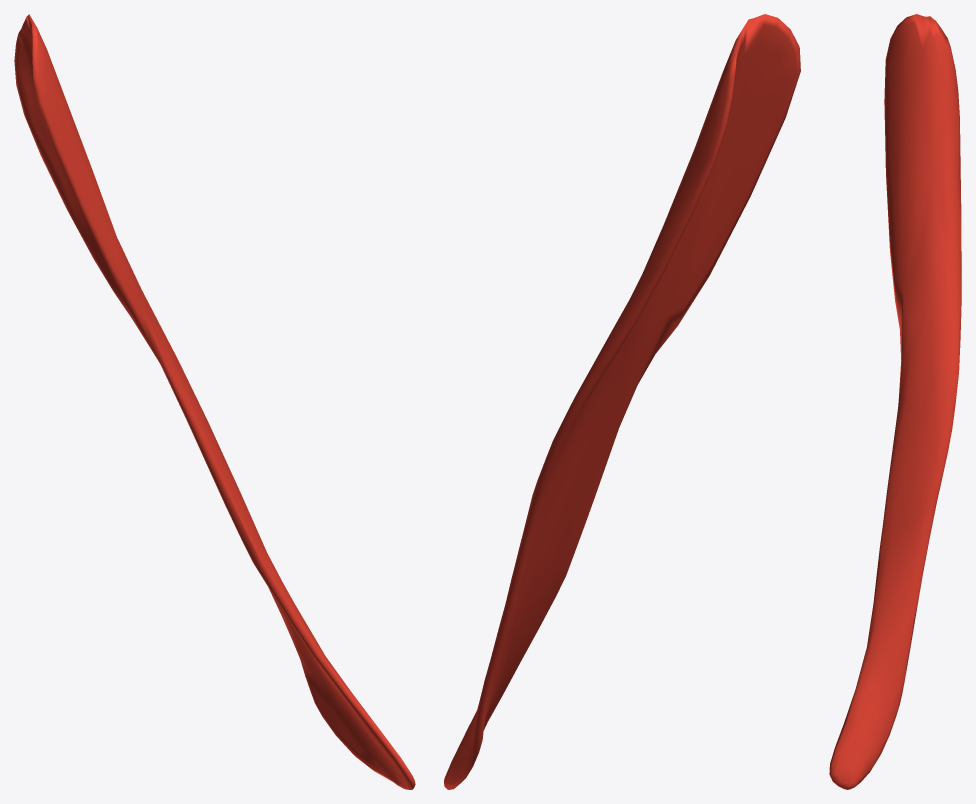
The model's file is Extensor_carpi_radialis_longus_humeral_insertion_left.glb.
3 renders of one model, left to right at view 1: azimuth 30°, elevation 25°; view 2: azimuth 150°, elevation 25°; view 3: azimuth 270°, elevation 25°, orthographic. The views are drawn at different scales.
Visible parts, largest first — view 1: Extensor_carpi_radialis_longus_muscle-Humeral_insertion.l_Ge; view 2: Extensor_carpi_radialis_longus_muscle-Humeral_insertion.l_Ge; view 3: Extensor_carpi_radialis_longus_muscle-Humeral_insertion.l_Ge.
Boxes of the visible parts, bbox=[...] form: Extensor_carpi_radialis_longus_muscle-Humeral_insertion.l_Ge: bbox=[14, 14, 415, 789]; Extensor_carpi_radialis_longus_muscle-Humeral_insertion.l_Ge: bbox=[444, 14, 800, 789]; Extensor_carpi_radialis_longus_muscle-Humeral_insertion.l_Ge: bbox=[829, 14, 961, 789].
Bounding box in the file's own units: 0.0213 × 0.0476 × 0.0088.
